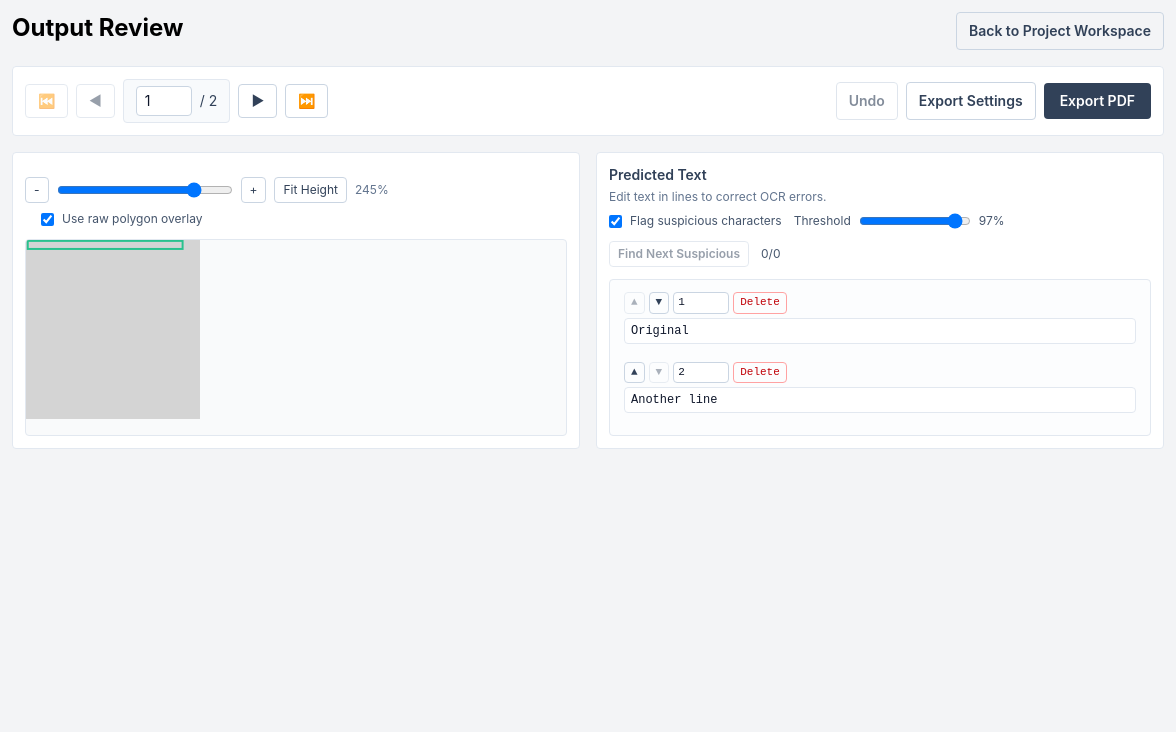
Test case: review screen workflows › restores the displayed order and shows an error when a move fails
What coordinates should you click on to do the following:
click the 1st button "▼"
I would click on:
 (659, 303)
Its box is [649, 292, 669, 314].
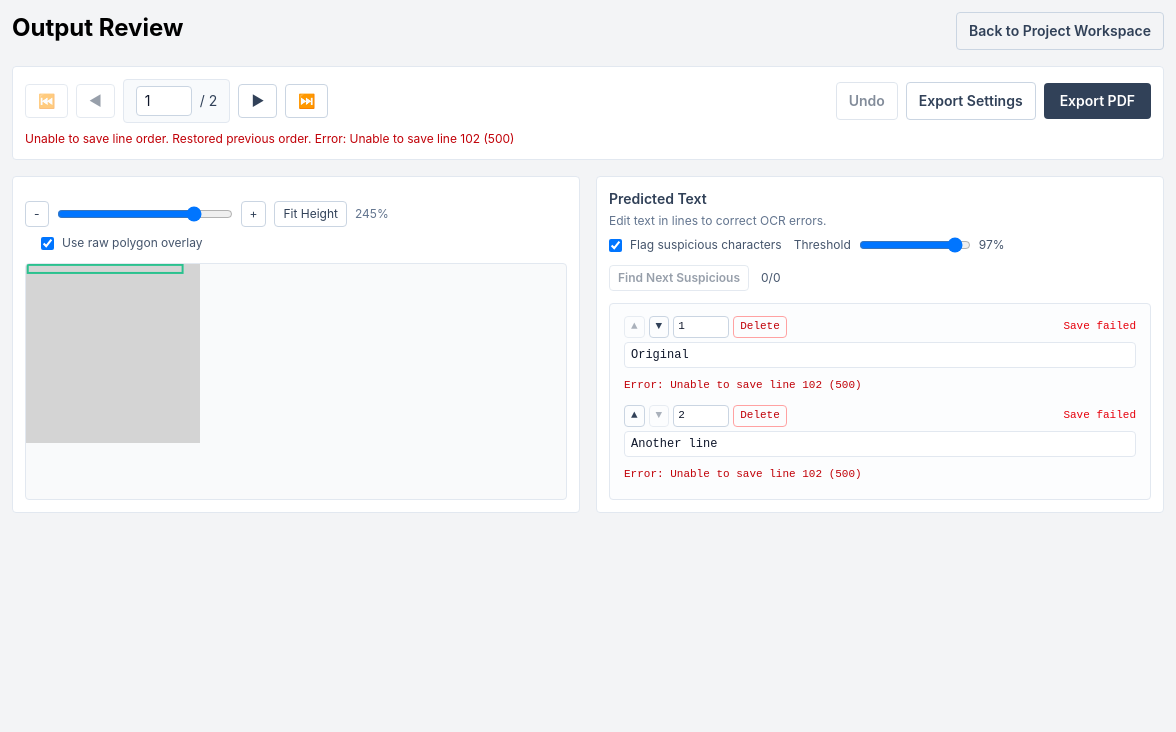
Expected: the text "Restored previous order" is shown, [25, 131, 514, 146]
